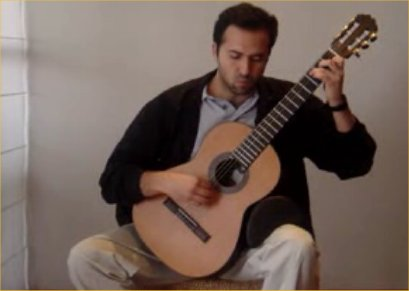guitar: (132, 12, 379, 278)
